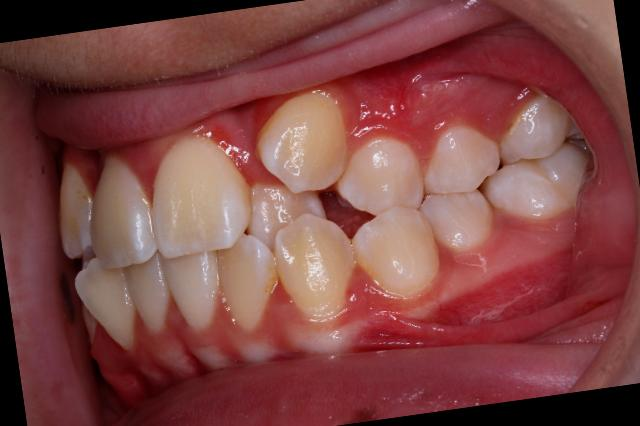canine class II 3/4: (240, 74, 450, 333)
molar class III 1/4: (476, 88, 604, 236)
